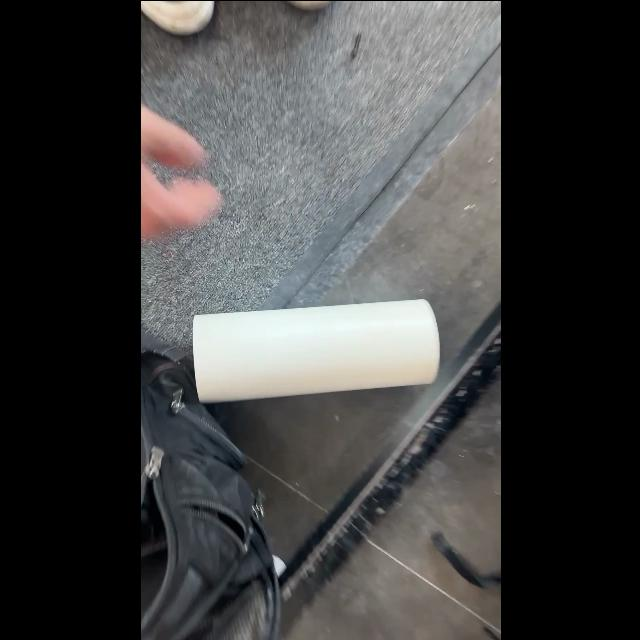CORAL: (190, 296, 440, 404)
